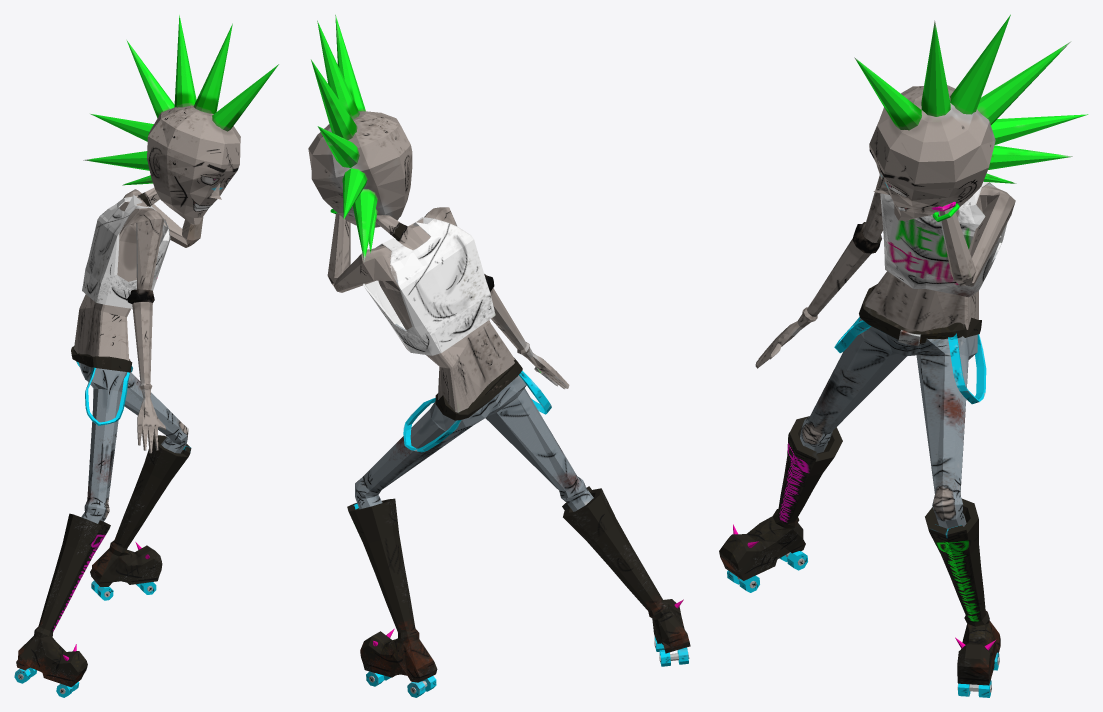
The model's file is punkAnimation_000043.obj.
3 renders of one model, left to right at view 1: azimuth 30°, elevation 25°; view 2: azimuth 150°, elevation 25°; view 3: azimuth 270°, elevation 25°, orthographic. The views are drawn at different scales.
Parts seen in each view (by area): view 1: Cube.004_Cube.003; view 2: Cube.004_Cube.003; view 3: Cube.004_Cube.003.
Boxes of the visible parts, x1=… form: Cube.004_Cube.003: x1=14, y1=15, x2=278, y2=697; Cube.004_Cube.003: x1=308, y1=14, x2=690, y2=697; Cube.004_Cube.003: x1=719, y1=14, x2=1088, y2=697.
Bounding box in the file's own units: 3.62 × 6.69 × 3.11.
